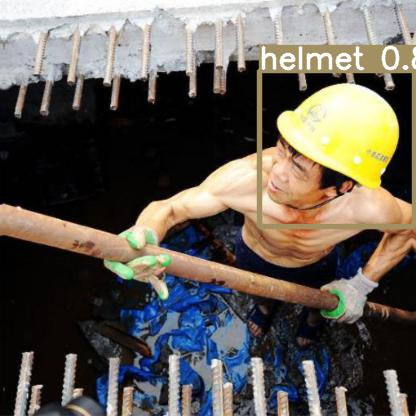helmet: (259, 70, 414, 226)
